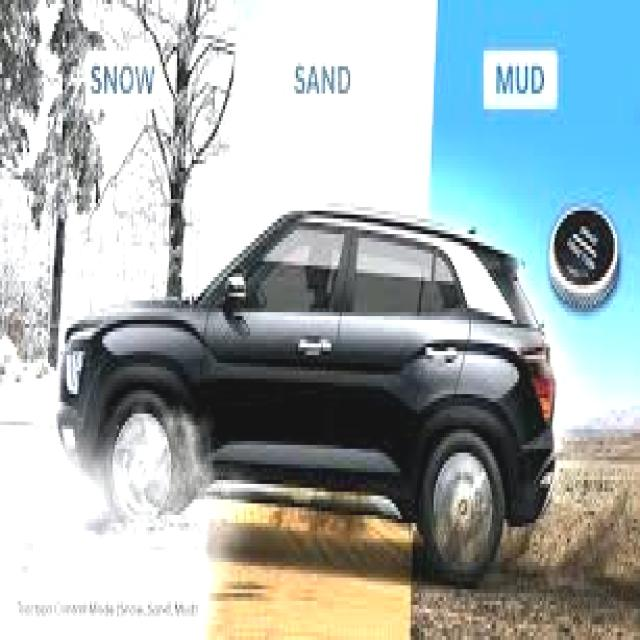SUV: (56, 200, 557, 586)
